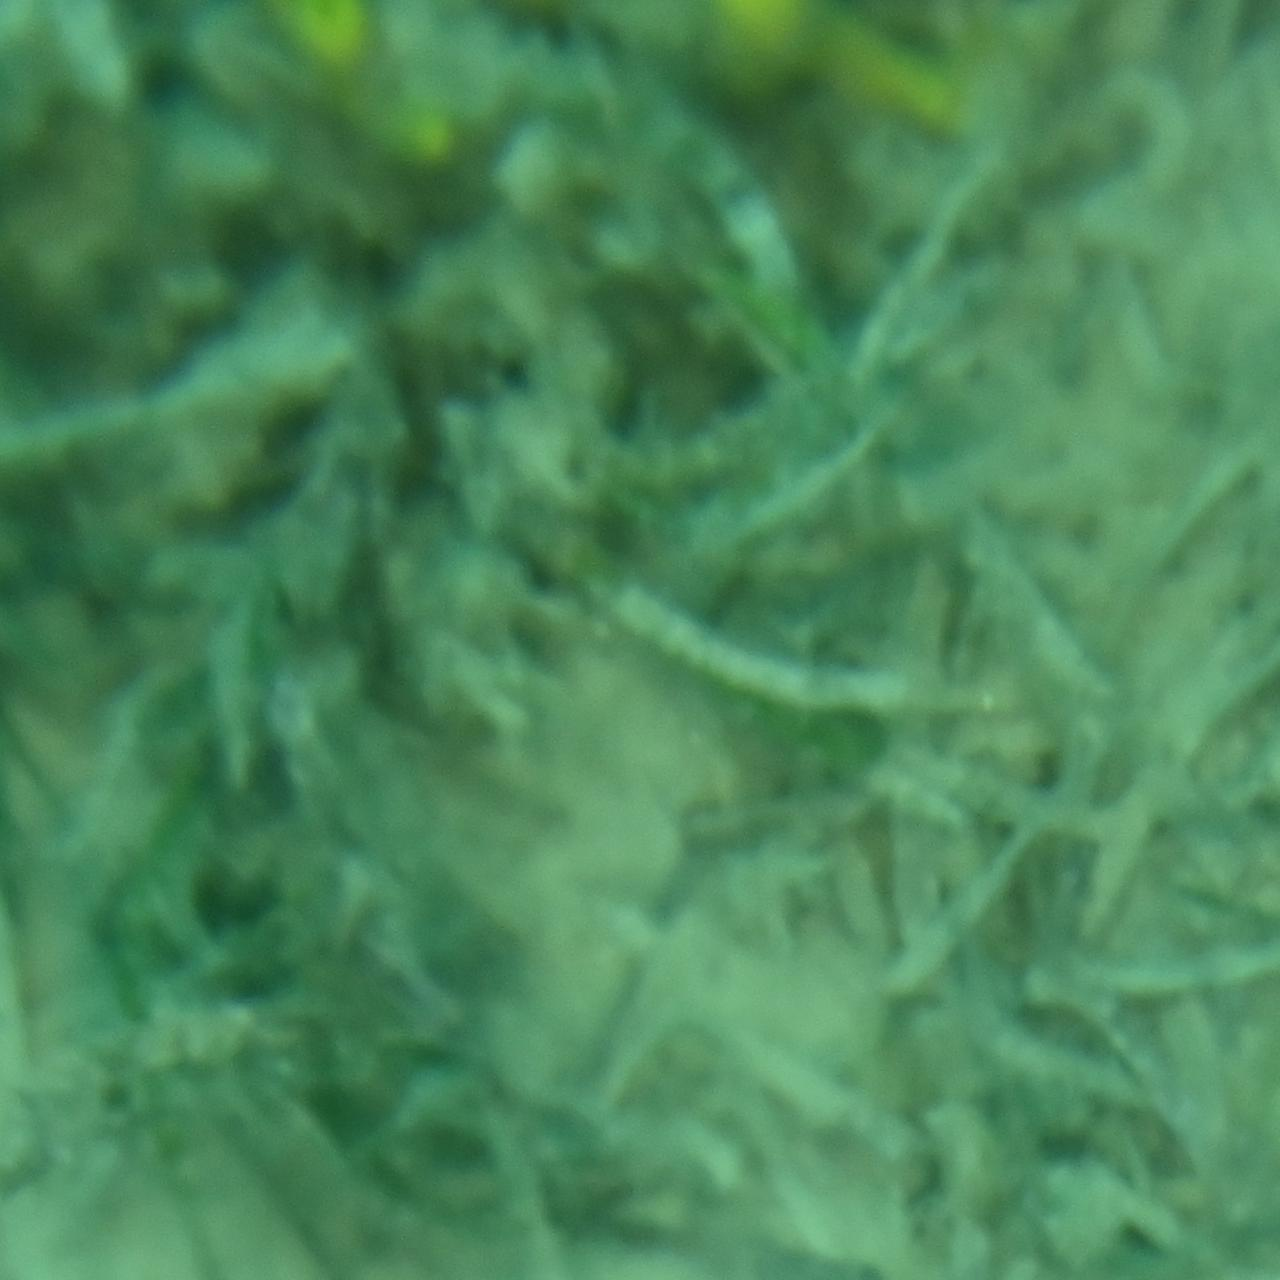Aplysina aerophoba: (274, 0, 1006, 188)
